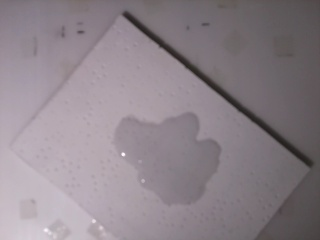Water_detected: (131, 130, 212, 188)
